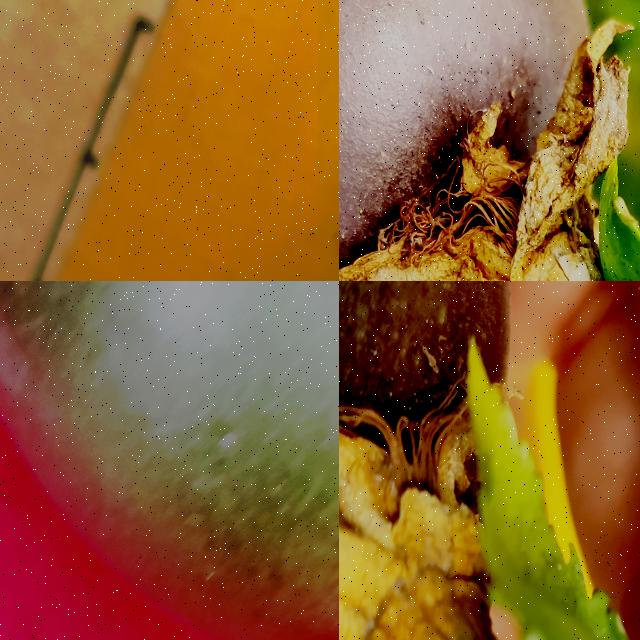Estado-1: (0, 281, 339, 640)
Estado-4: (339, 281, 505, 640)
Estado-5: (339, 0, 625, 281)
